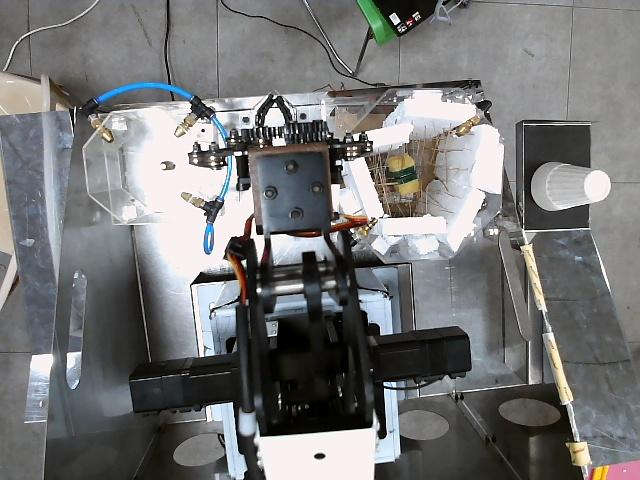cup: (532, 160, 611, 211)
